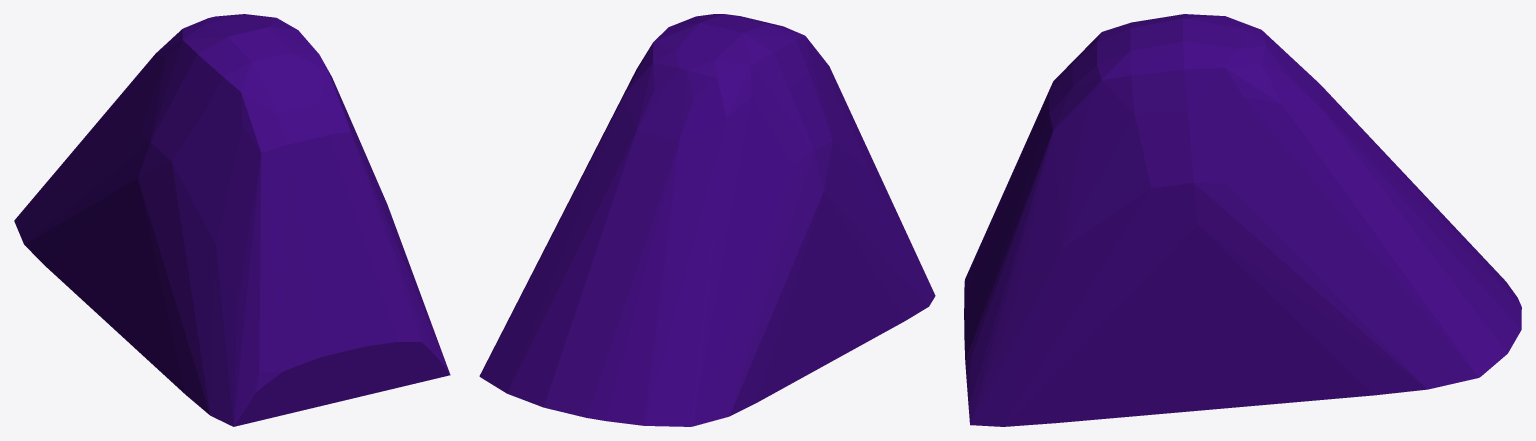
The model's file is converted_Downdraft_Assy_collision_19_410786ff.obj.
3 views of the same model, side by side, from view 1: azimuth 30°, elevation 25°; view 2: azimuth 150°, elevation 25°; view 3: azimuth 270°, elevation 25° (orthographic). The views are drawn at different scales.
Bounding box in the file's own units: 0.0865 × 0.105 × 0.1575.
